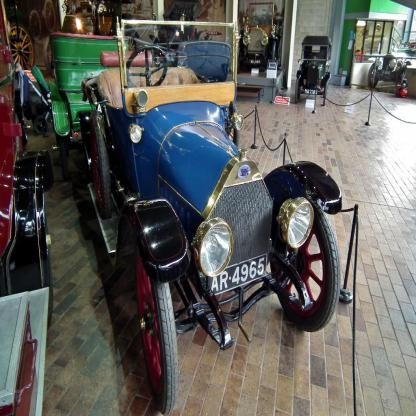Car: (48, 9, 344, 416), (1, 3, 55, 416), (239, 3, 280, 70), (298, 36, 332, 106), (366, 52, 413, 100)
